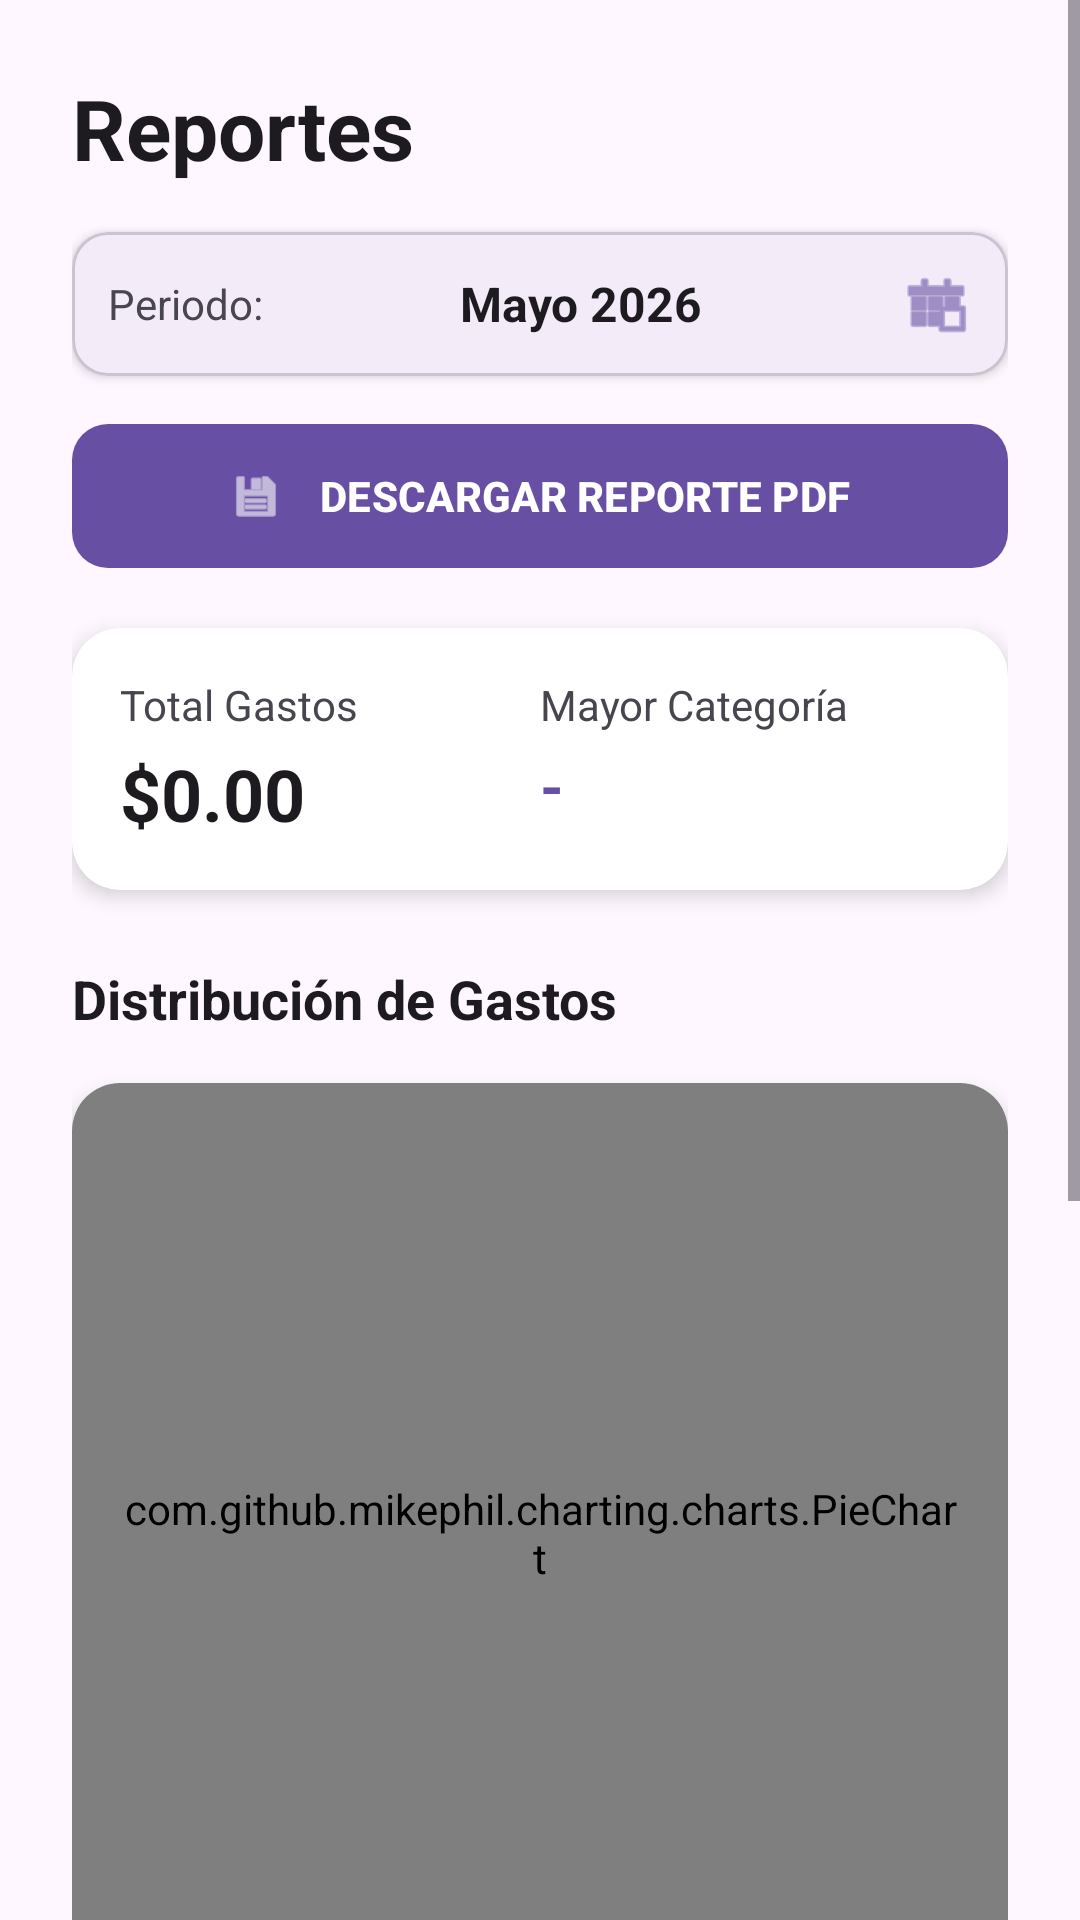

Locate icon controls on the screen. Image size 1080*1920, boxes as region(x1, y1, x2, y2).
today: region(907, 278, 966, 332)
